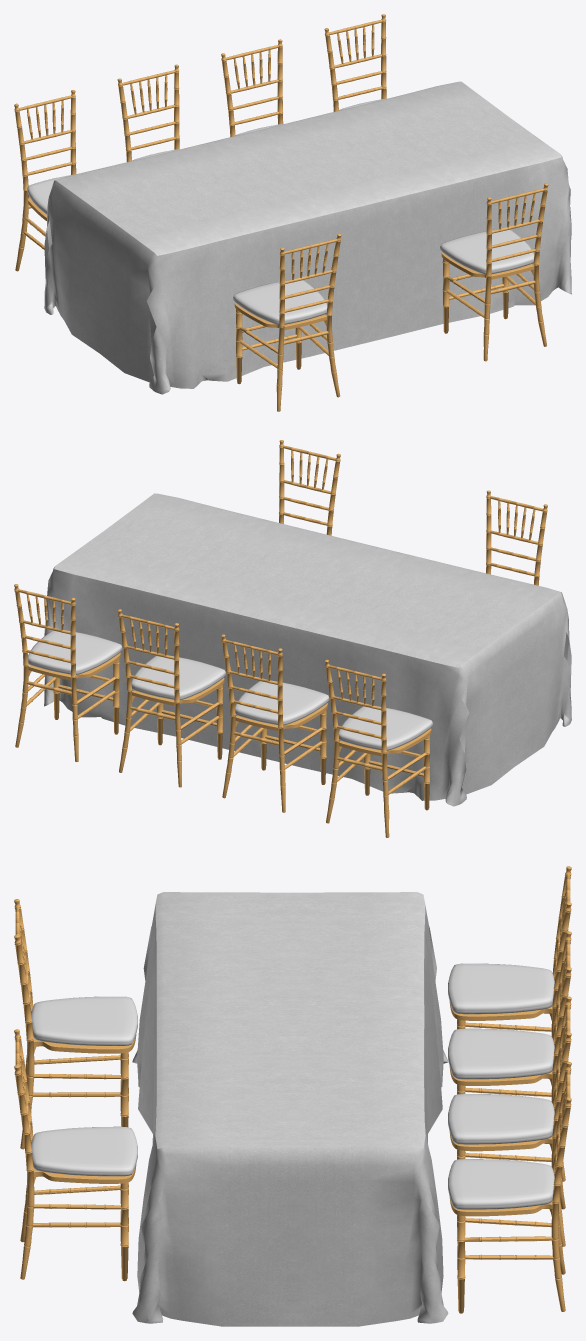
Rendered from banquet-6pax-243x121.glb.
3 views of the same model, one above another, from view 1: azimuth 30°, elevation 25°; view 2: azimuth 150°, elevation 25°; view 3: azimuth 270°, elevation 25° (orthographic). The views are drawn at different scales.
Visible parts, largest first — view 1: 6pax; view 2: 6pax; view 3: 6pax.
Part boxes in pixels (x1,y1,x2,y2): 6pax: [14, 14, 571, 411]; 6pax: [14, 440, 571, 837]; 6pax: [14, 866, 571, 1326].
Size of the model in its own units: 241 by 90.76 by 214.
Materials: 3 (1 with a texture image).
